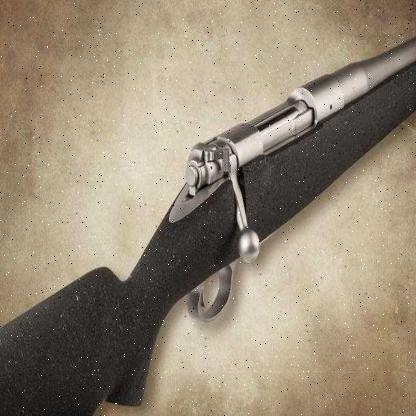rifle: (0, 23, 415, 415)
